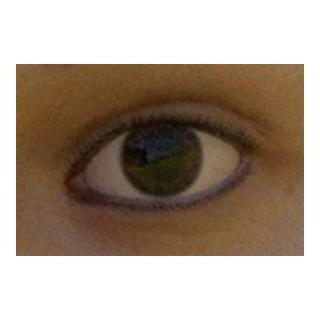pupil: (143, 138, 180, 175)
